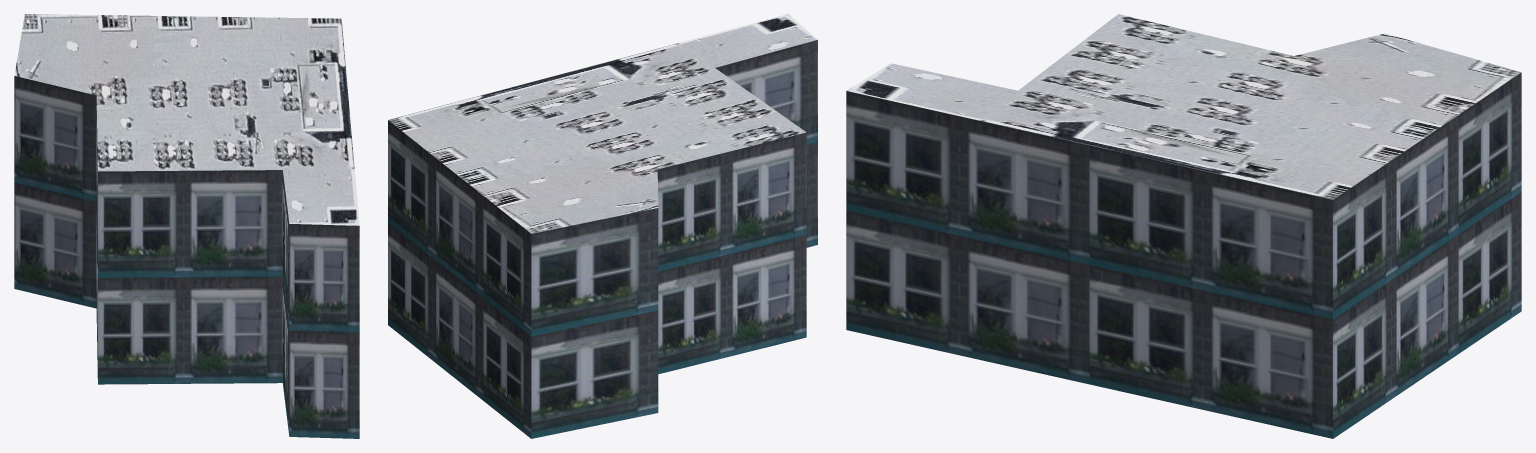
The model's file is ResTex__493.fbx.
The picture shows the model from 3 angles, left to right: view 1: azimuth 30°, elevation 25°; view 2: azimuth 150°, elevation 25°; view 3: azimuth 270°, elevation 25°; orthographic projection. The views are drawn at different scales.
Visible parts, largest first — view 1: CityEngineMaterial_11_m, CityEngineMaterial_4_m; view 2: CityEngineMaterial_11_m, CityEngineMaterial_4_m; view 3: CityEngineMaterial_11_m, CityEngineMaterial_4_m.
Boxes of the visible parts, x1=… form: CityEngineMaterial_11_m: x1=14, y1=76, x2=359, y2=438; CityEngineMaterial_4_m: x1=14, y1=14, x2=359, y2=225; CityEngineMaterial_11_m: x1=388, y1=40, x2=817, y2=438; CityEngineMaterial_4_m: x1=388, y1=14, x2=817, y2=233; CityEngineMaterial_11_m: x1=846, y1=72, x2=1521, y2=438; CityEngineMaterial_4_m: x1=847, y1=14, x2=1520, y2=199.
Size of the model in its own units: 10 by 6 by 15.35.
2 materials, 2 textured.
